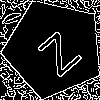Z: (29, 23, 84, 78)
